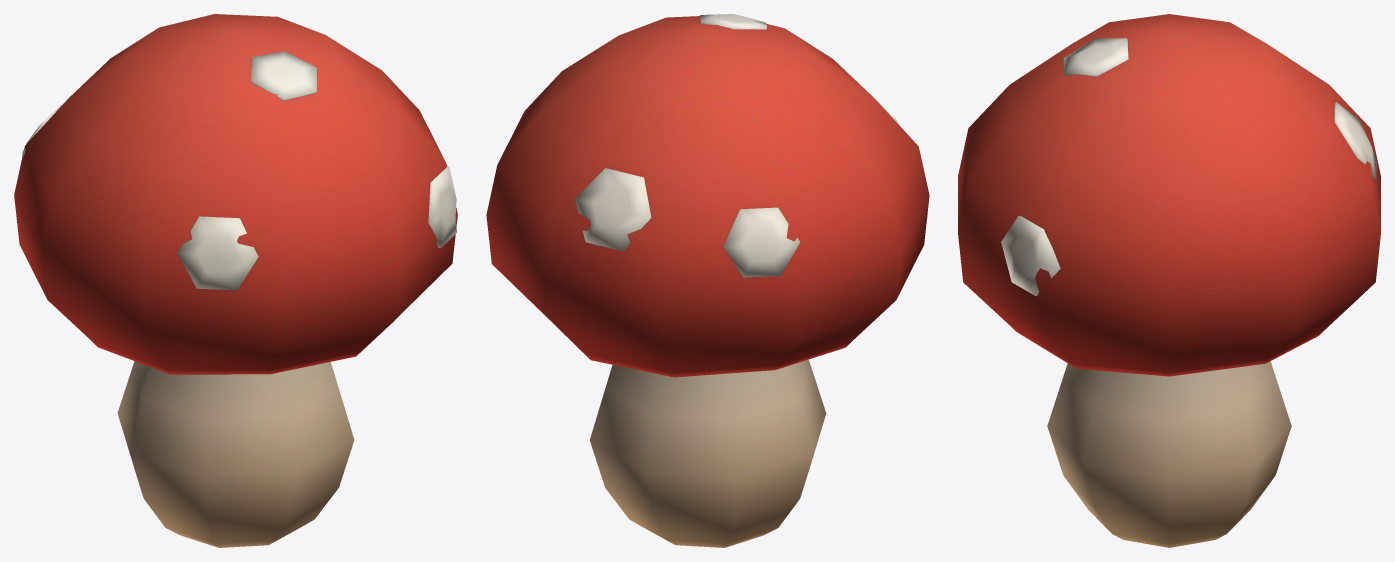
Rendered from mushroom_red_3_low.glb.
The picture shows the model from 3 angles, left to right: view 1: azimuth 30°, elevation 25°; view 2: azimuth 150°, elevation 25°; view 3: azimuth 270°, elevation 25°; orthographic projection.
Visible parts, largest first — view 1: cap, mushroom_red_3; view 2: cap, mushroom_red_3; view 3: cap, mushroom_red_3.
Part boxes in pixels (x1,y1,x2,y2): cap: (14, 14, 457, 374); mushroom_red_3: (117, 361, 354, 547); cap: (486, 14, 929, 377); mushroom_red_3: (589, 359, 826, 547); cap: (958, 14, 1380, 376); mushroom_red_3: (1047, 361, 1291, 547).
Size of the model in its own units: 0.492 by 0.6 by 0.4679.
1 material, 1 textured.
